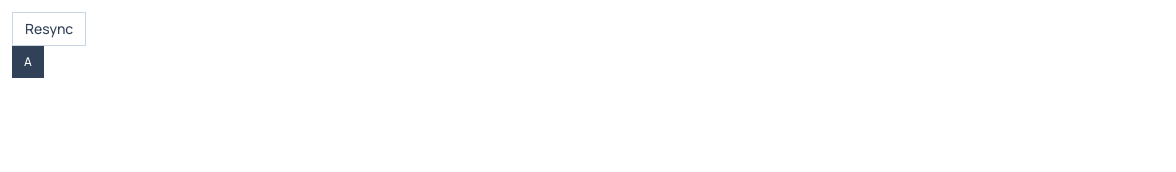
Scenario: ResyncTeamMenu › lists only the team-scoped kinds for a super admin
Expected: the button named "account menu" is shown, [12,46,44,78]
Click the button "Resync". click: (49, 29)
box: [12,12,86,46]
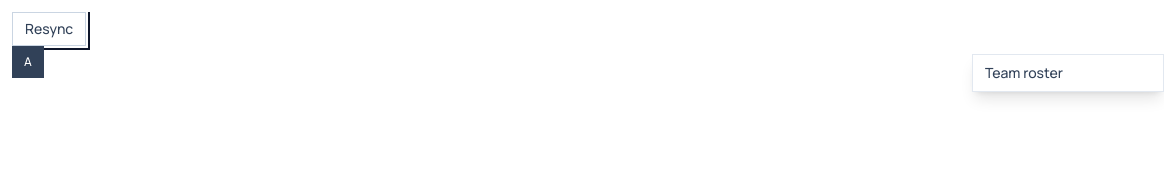
Expected: the menu item "Team roster" is shown, [973,55,1163,91]
